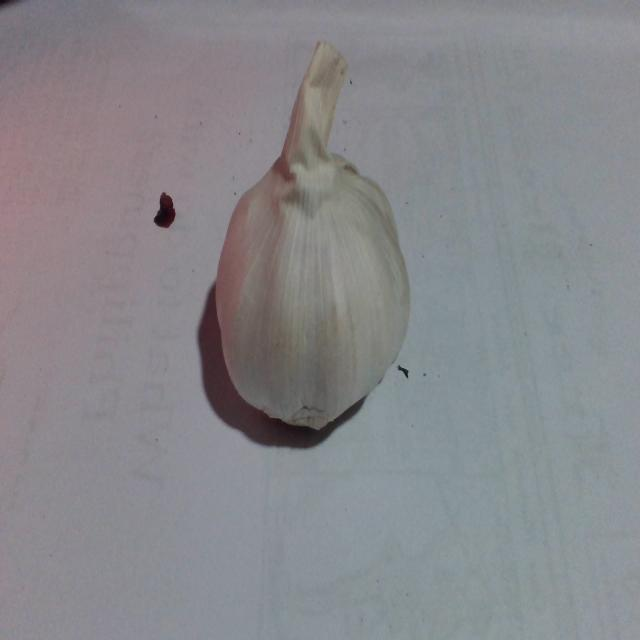garlic: (209, 146, 413, 452)
